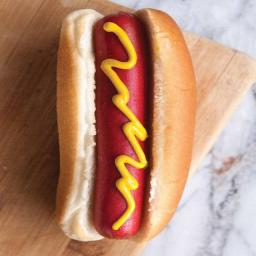hotdog: (64, 2, 194, 250)
